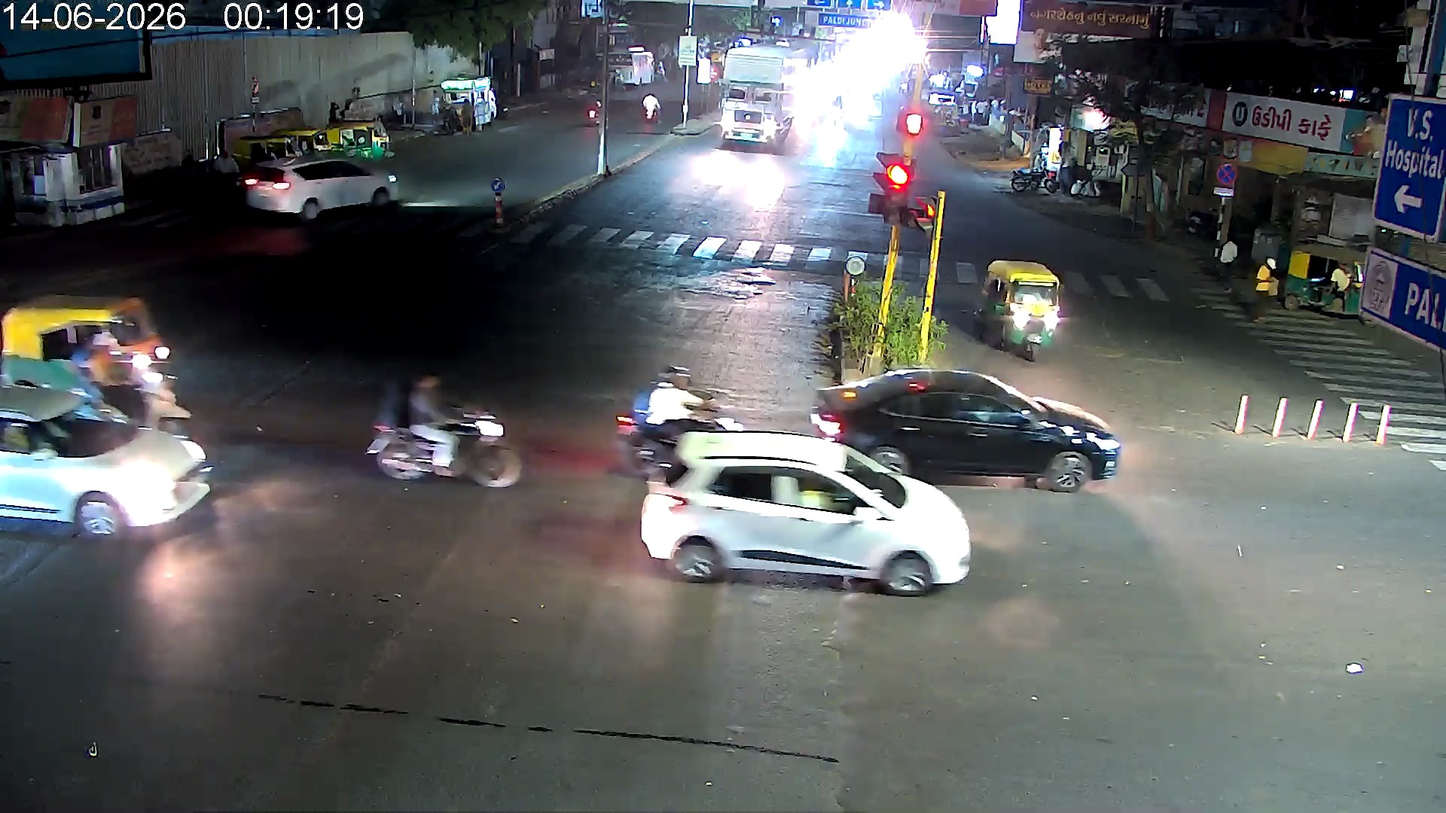auto_rickshaw: (0, 289, 175, 402), (974, 252, 1068, 348), (1285, 242, 1370, 307)
bus: (232, 124, 407, 220), (716, 76, 797, 151)
car: (630, 427, 984, 581), (813, 361, 1128, 486), (1, 408, 229, 540), (230, 123, 407, 219)
pedestrian: (640, 88, 662, 127)
truck: (714, 77, 798, 153)
two_wheeler: (357, 367, 520, 487)
